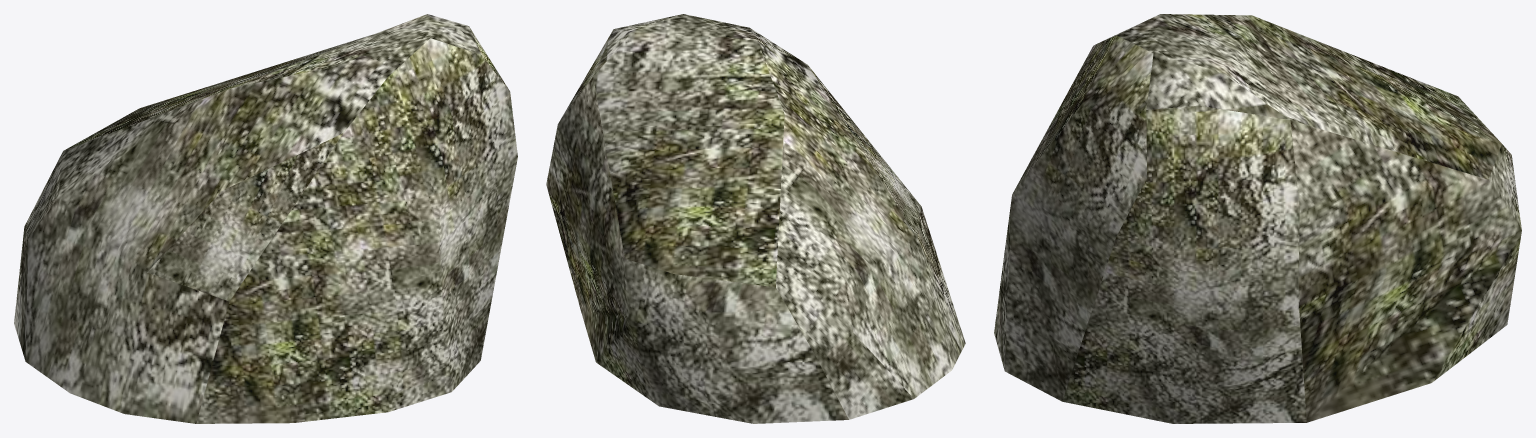
File: stone_granite_boulder_c.glb
3 renders of one model, left to right at view 1: azimuth 30°, elevation 25°; view 2: azimuth 150°, elevation 25°; view 3: azimuth 270°, elevation 25°, orthographic. The views are drawn at different scales.
Parts seen in each view (by area): view 1: stone_granite_boulder_c; view 2: stone_granite_boulder_c; view 3: stone_granite_boulder_c.
Boxes of the visible parts, left/top/right/bottom form: stone_granite_boulder_c: left=14, top=14, right=517, bottom=423; stone_granite_boulder_c: left=546, top=14, right=965, bottom=423; stone_granite_boulder_c: left=994, top=14, right=1521, bottom=423.
Size of the model in its own units: 7.53 by 5.03 by 7.04.
1 material, 1 textured.
